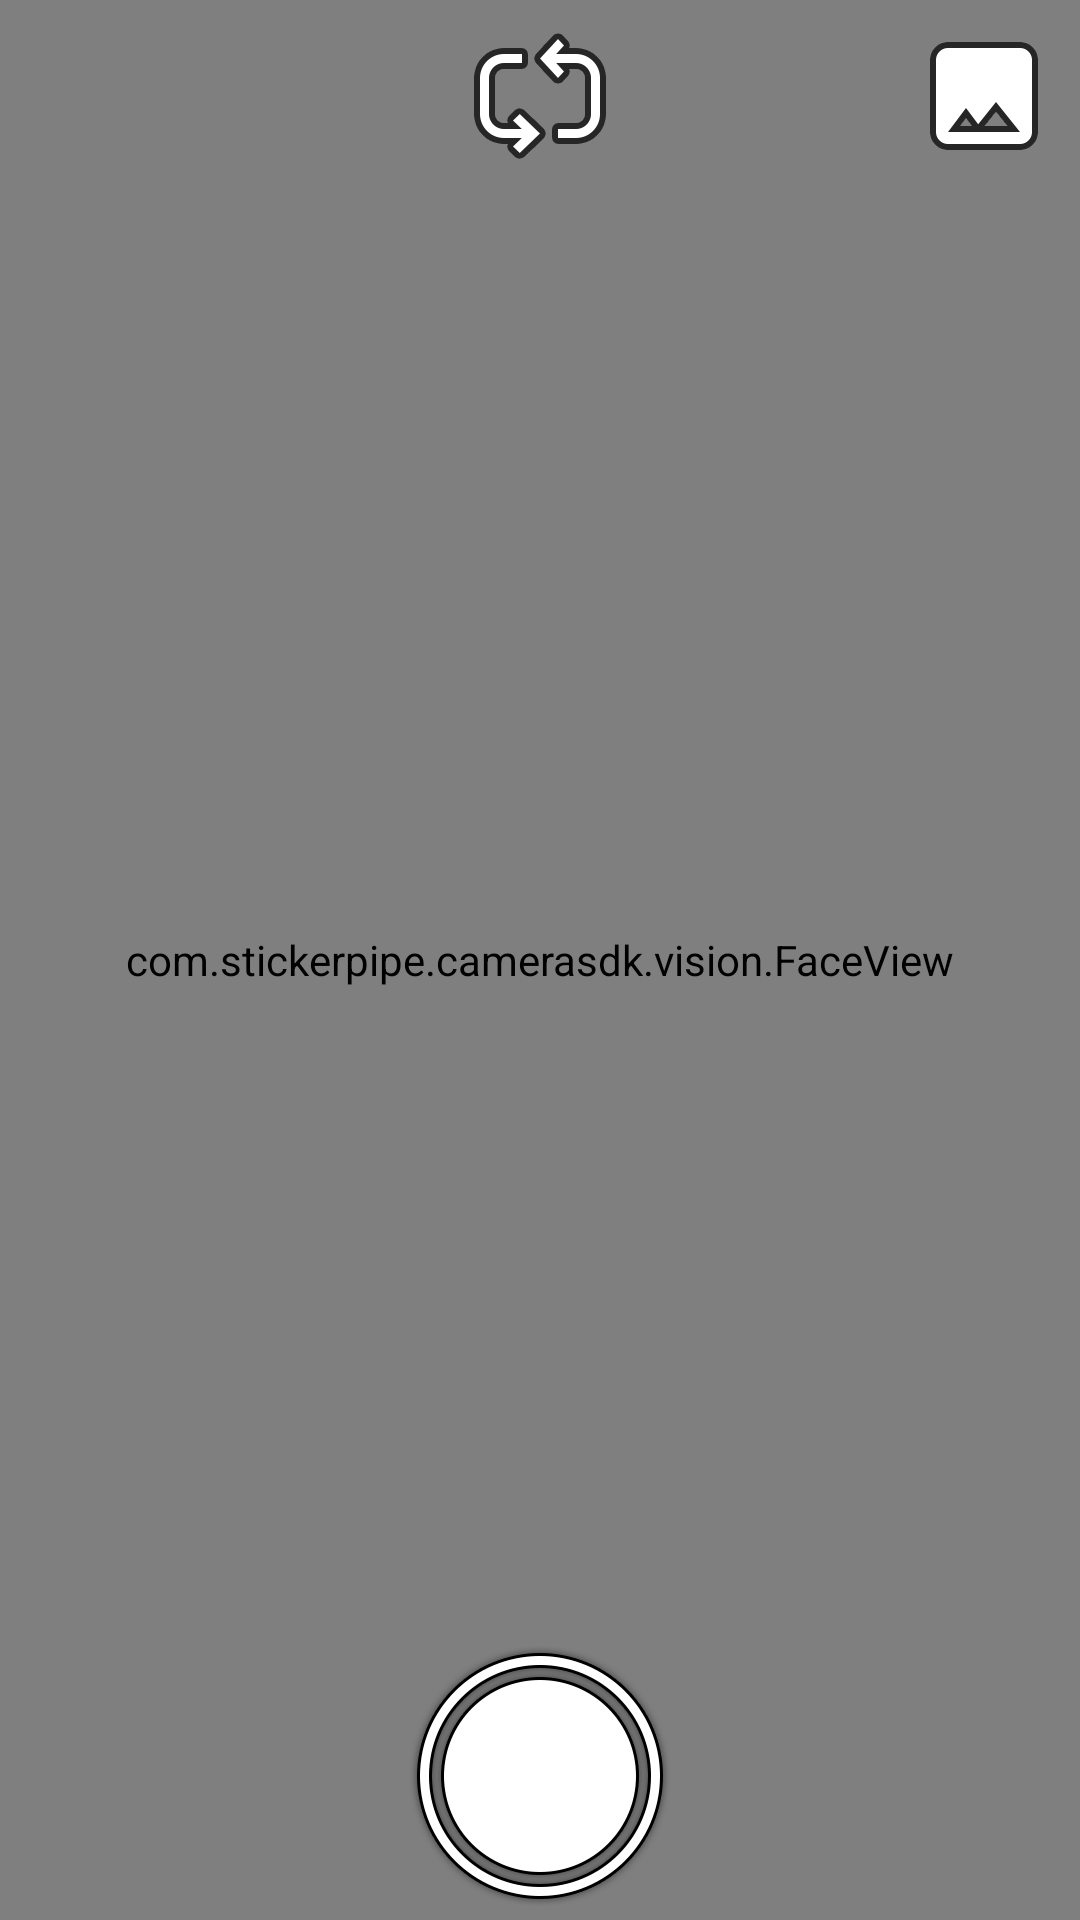

Named icons in this screenshot (1080 x 1920) and their bounding boxes, rect(x1, y1, x2, y2):
photo library: rect(930, 42, 1038, 150)
reverse: rect(474, 33, 606, 159)
take photo: rect(416, 1652, 664, 1900)
